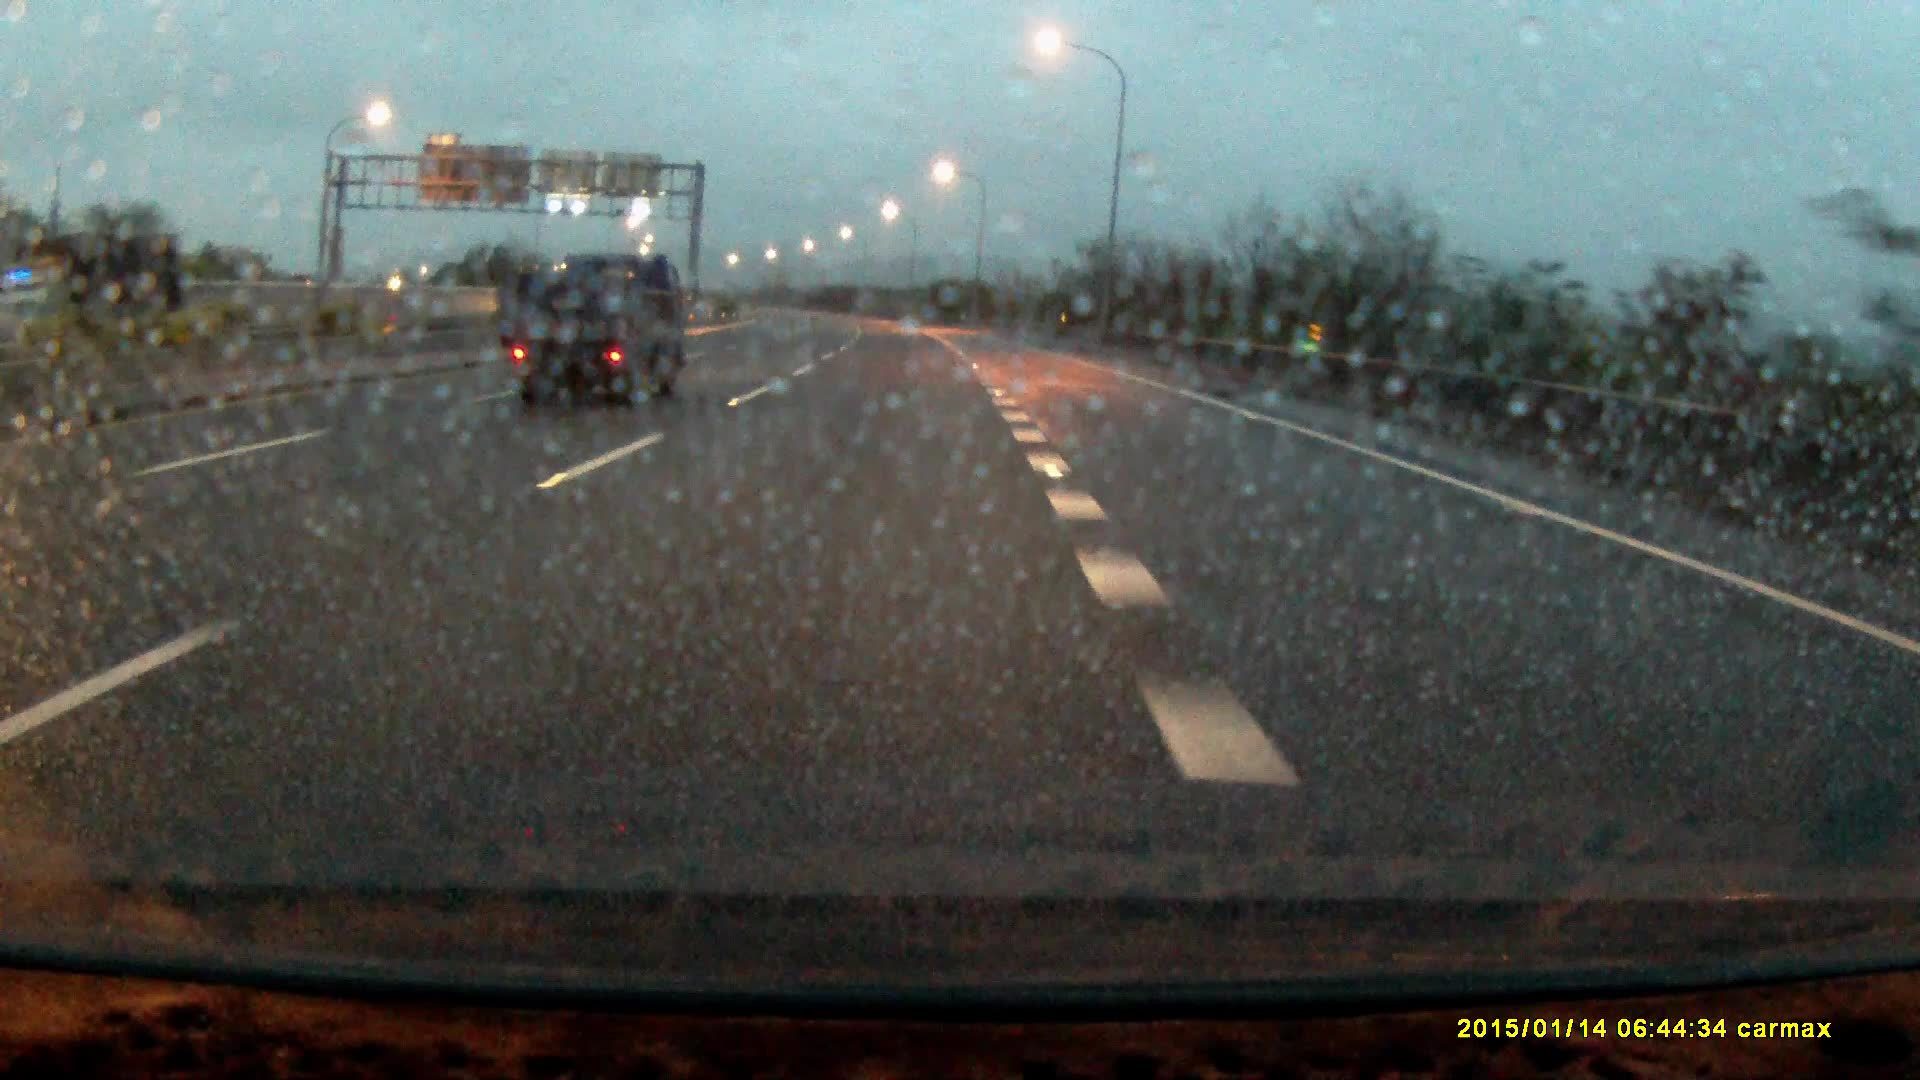vehicle: (498, 251, 692, 407), (15, 231, 189, 324)
